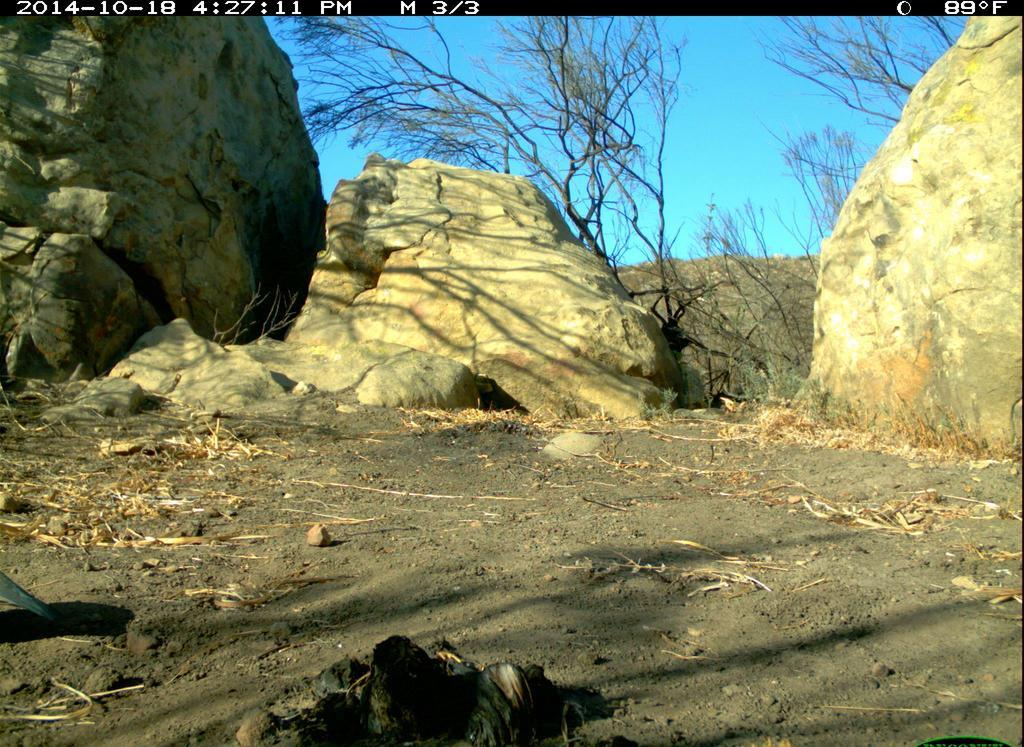bird: (2, 551, 65, 648)
